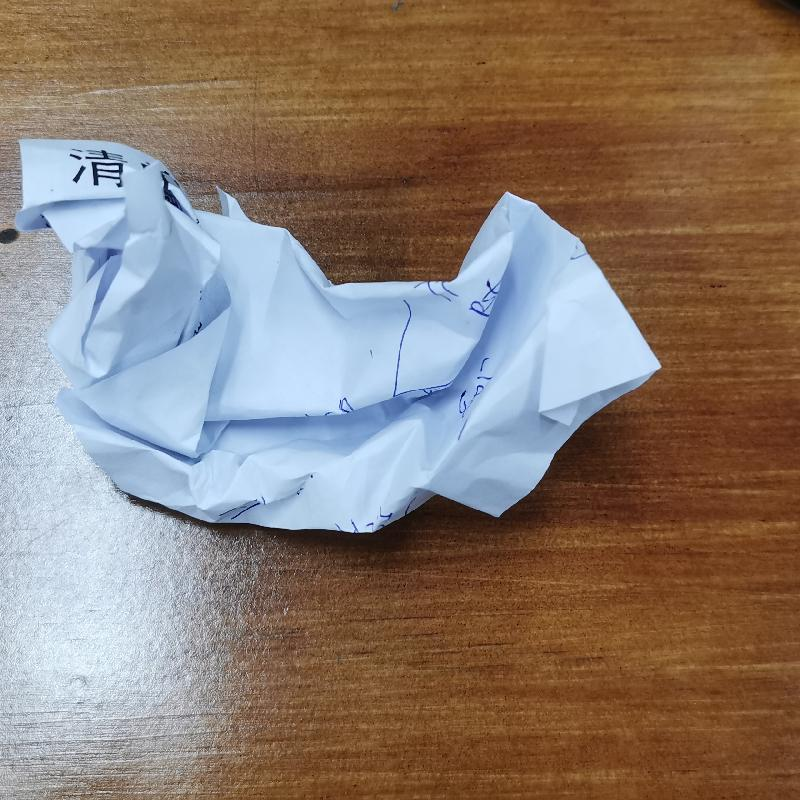spitball: (14, 129, 680, 562)
